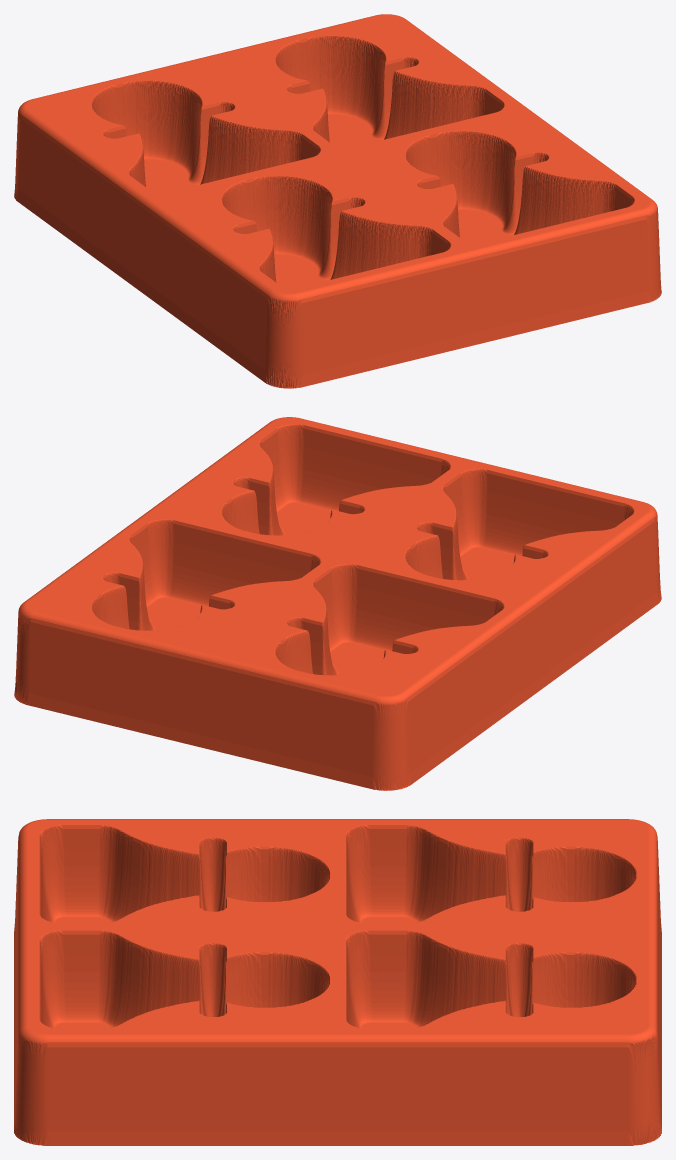
File: mold.glb
3 renders of one model, top to bottom at view 1: azimuth 30°, elevation 25°; view 2: azimuth 150°, elevation 25°; view 3: azimuth 270°, elevation 25°, orthographic. The views are drawn at different scales.
Visible parts, largest first — view 1: geometry_0; view 2: geometry_0; view 3: geometry_0.
Boxes of the visible parts, x1=… form: geometry_0: x1=14, y1=14, x2=661, y2=388; geometry_0: x1=14, y1=417, x2=661, y2=790; geometry_0: x1=14, y1=819, x2=661, y2=1145.
Size of the model in its own units: 0.142 by 0.031 by 0.1721.
